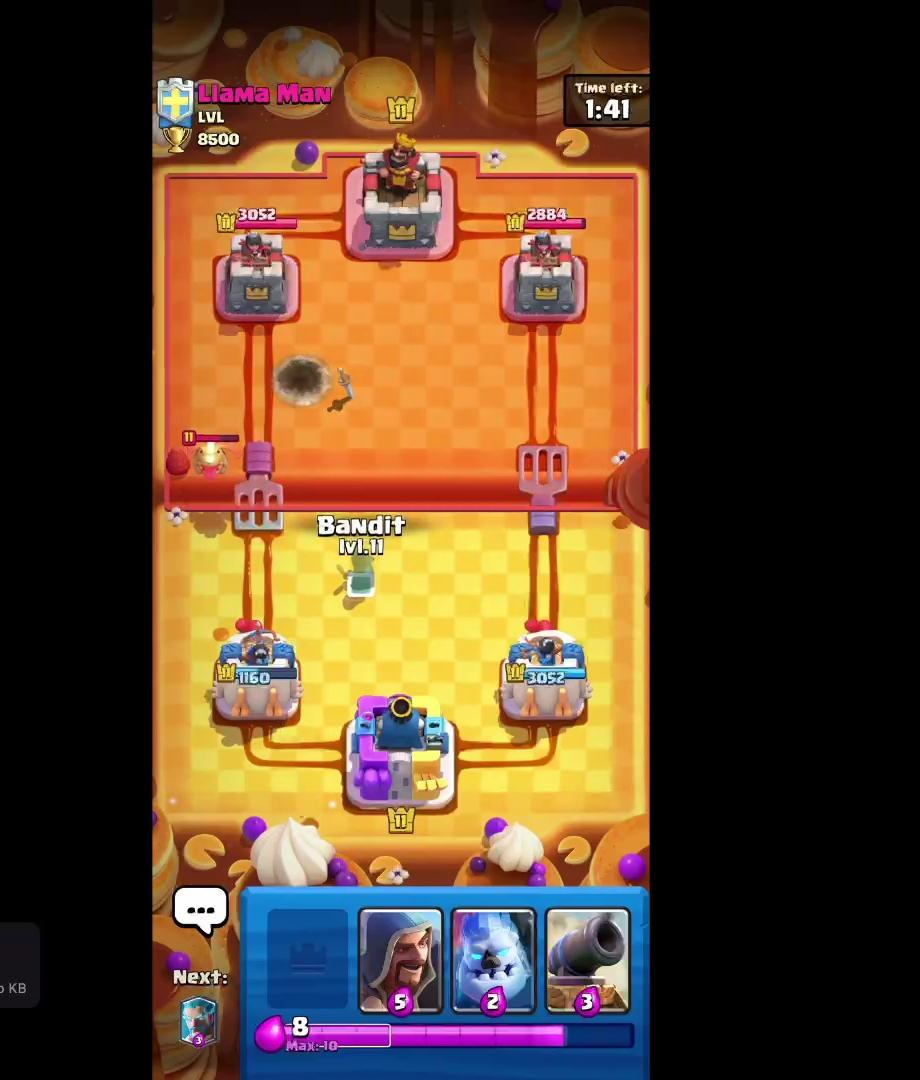Baby Dragon: (182, 428, 244, 482)
